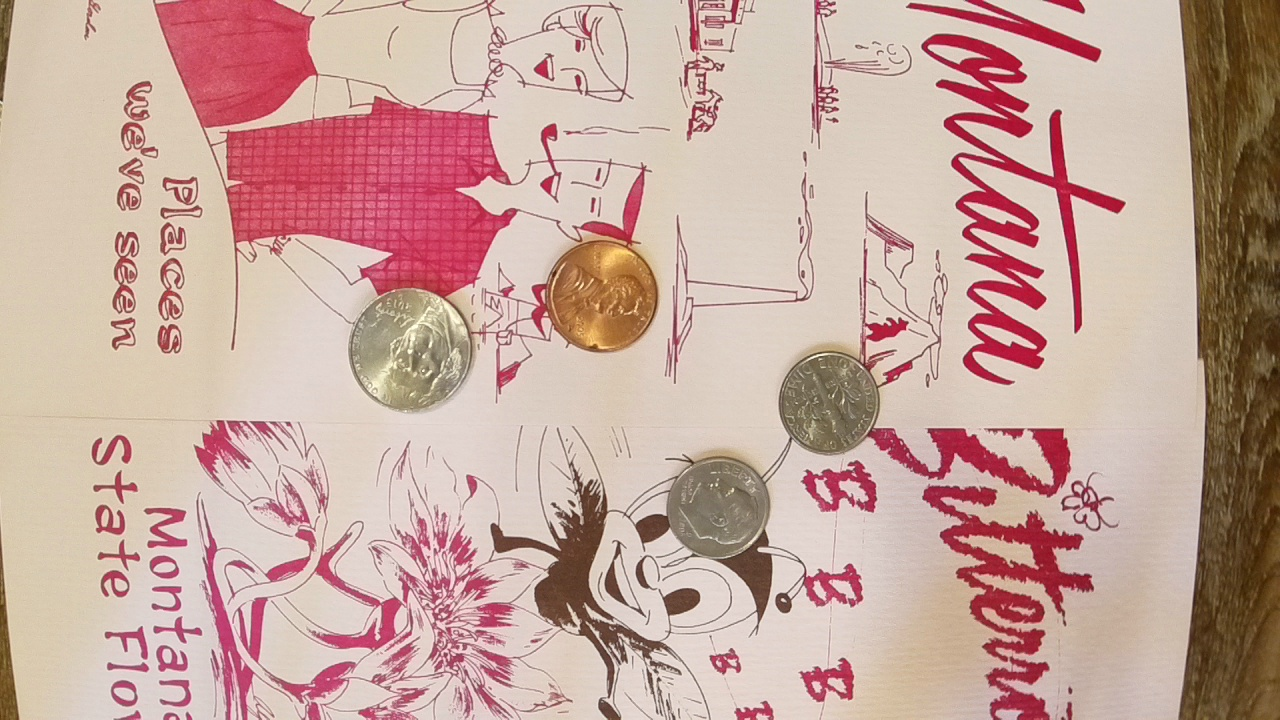dime: (776, 347, 880, 455), (664, 455, 772, 557)
nickel: (342, 284, 478, 414)
penny: (544, 234, 660, 354)
